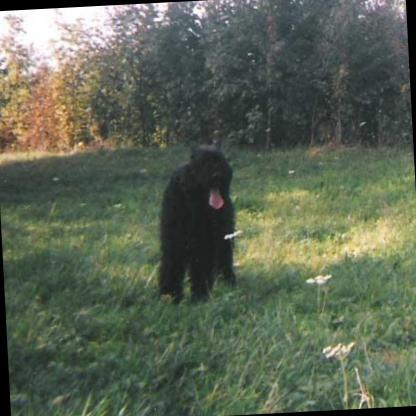Bouvier_des_Flandres: (148, 136, 240, 308)
